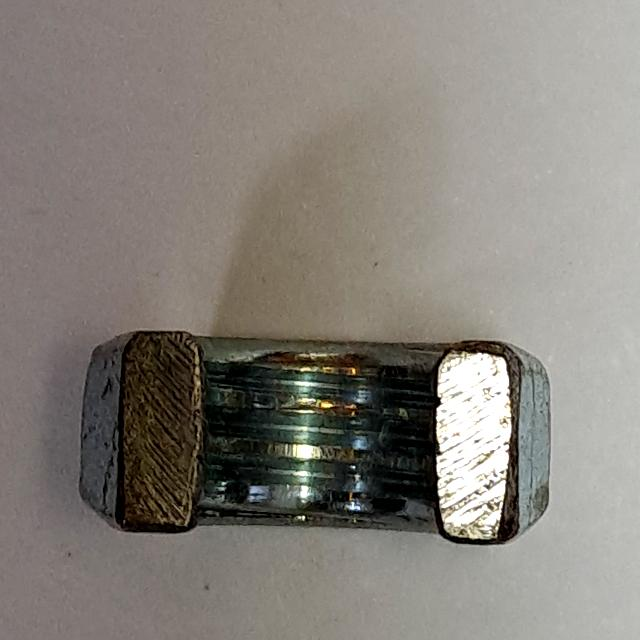Side-Fracture: (66, 312, 570, 564)
